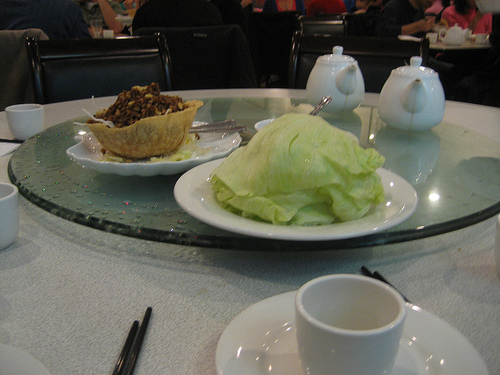cabbage: (211, 109, 383, 229)
